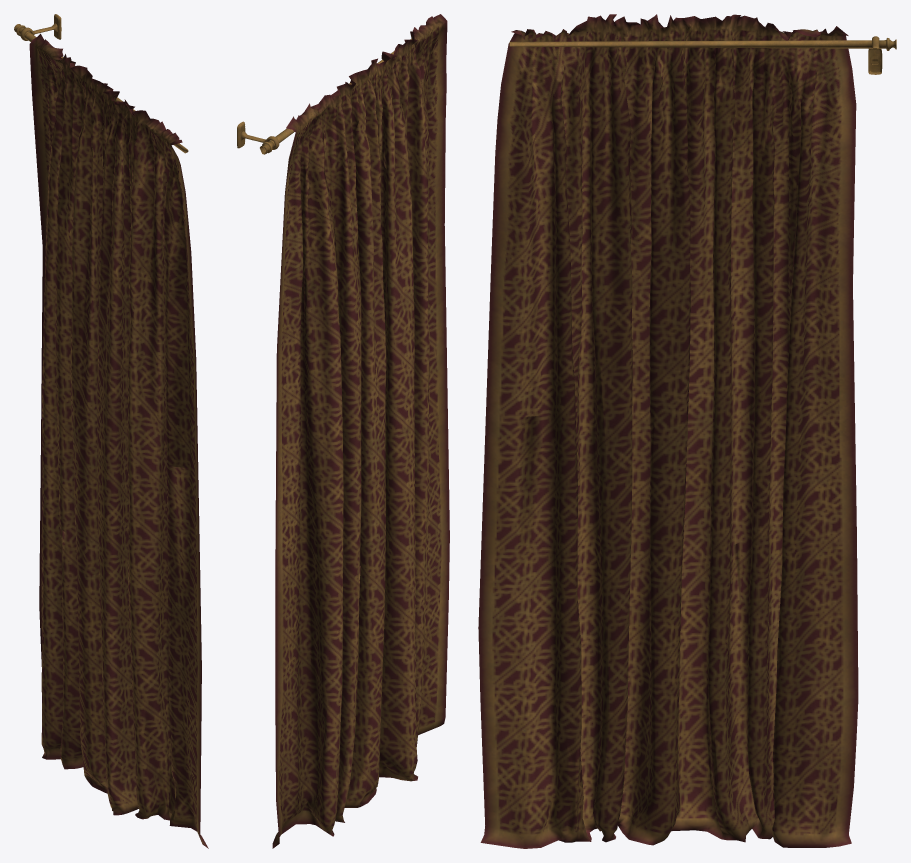
Rendered from SM_CurtainMidBig_Guard.fbx.
3 renders of one model, left to right at view 1: azimuth 30°, elevation 25°; view 2: azimuth 150°, elevation 25°; view 3: azimuth 270°, elevation 25°, orthographic. The views are drawn at different scales.
Parts seen in each view (by area): view 1: SM_CurtainMidBig_Guard_LOD0; view 2: SM_CurtainMidBig_Guard_LOD0; view 3: SM_CurtainMidBig_Guard_LOD0.
Part boxes in pixels (left/top/right/bottom): SM_CurtainMidBig_Guard_LOD0: left=14, top=14, right=208, bottom=848; SM_CurtainMidBig_Guard_LOD0: left=237, top=14, right=449, bottom=848; SM_CurtainMidBig_Guard_LOD0: left=478, top=14, right=896, bottom=848.
Bounding box in the file's own units: 51.49 × 265 × 570.
Materials: 1 (1 with a texture image).
